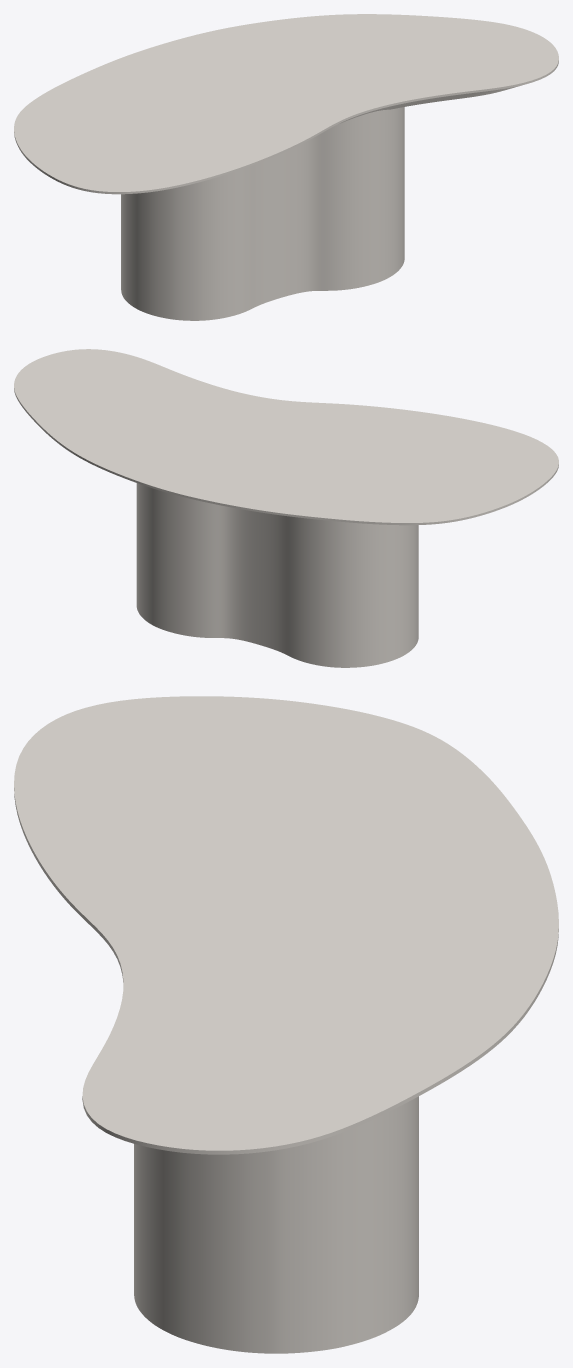
Rendered from pearlwhite_leaf1_facet_riverwave.glb.
3 renders of one model, top to bottom at view 1: azimuth 30°, elevation 25°; view 2: azimuth 150°, elevation 25°; view 3: azimuth 270°, elevation 25°, orthographic. The views are drawn at different scales.
Parts seen in each view (by area): view 1: facet_leaf1, riverwave; view 2: facet_leaf1, riverwave; view 3: facet_leaf1, riverwave.
Part boxes in pixels (x1,y1,x2,y2): facet_leaf1: (14,14,558,194); riverwave: (121,107,404,320); facet_leaf1: (14,349,558,525); riverwave: (136,483,418,667); facet_leaf1: (14,696,558,1154); riverwave: (134,1096,418,1353).
Size of the model in its own units: 7.5 by 2.5 by 3.8.
Materials: 1 (1 with a texture image).
